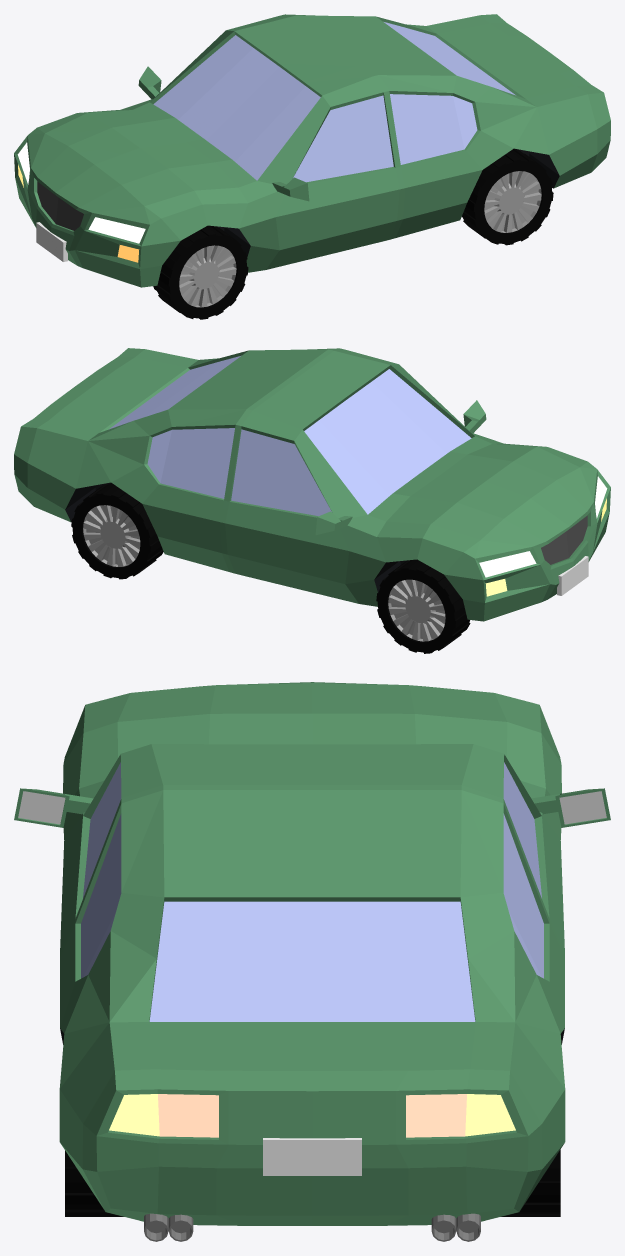
The model's file is car.gltf.
3 views of the same model, one above another, from view 1: azimuth 30°, elevation 25°; view 2: azimuth 150°, elevation 25°; view 3: azimuth 270°, elevation 25° (orthographic). The views are drawn at different scales.
Visible parts, largest first — view 1: Car Body_2, Wheel - Front Left_3, Wheel - Rear Left_6, License Plate - Front_0; view 2: Car Body_2, Wheel - Front Right_5, Wheel - Rear Right_4, License Plate - Front_0; view 3: Car Body_2, License Plate - Rear_1, Wheel - Rear Right_4, Wheel - Rear Left_6.
Part boxes in pixels (box(x1,y1,x2,y2)): Car Body_2: box(14, 14, 610, 287); Wheel - Front Left_3: box(153, 225, 248, 319); Wheel - Rear Left_6: box(462, 148, 553, 245); License Plate - Front_0: box(36, 222, 67, 261); Car Body_2: box(14, 348, 610, 621); Wheel - Front Right_5: box(376, 559, 470, 653); Wheel - Rear Right_4: box(71, 483, 163, 579); License Plate - Front_0: box(557, 556, 588, 595); Car Body_2: box(14, 682, 610, 1241); License Plate - Rear_1: box(263, 1138, 361, 1175); Wheel - Rear Right_4: box(501, 1149, 560, 1216); Wheel - Rear Left_6: box(65, 1150, 123, 1216).
Size of the model in its own units: 4.32 by 1.43 by 2.41.
